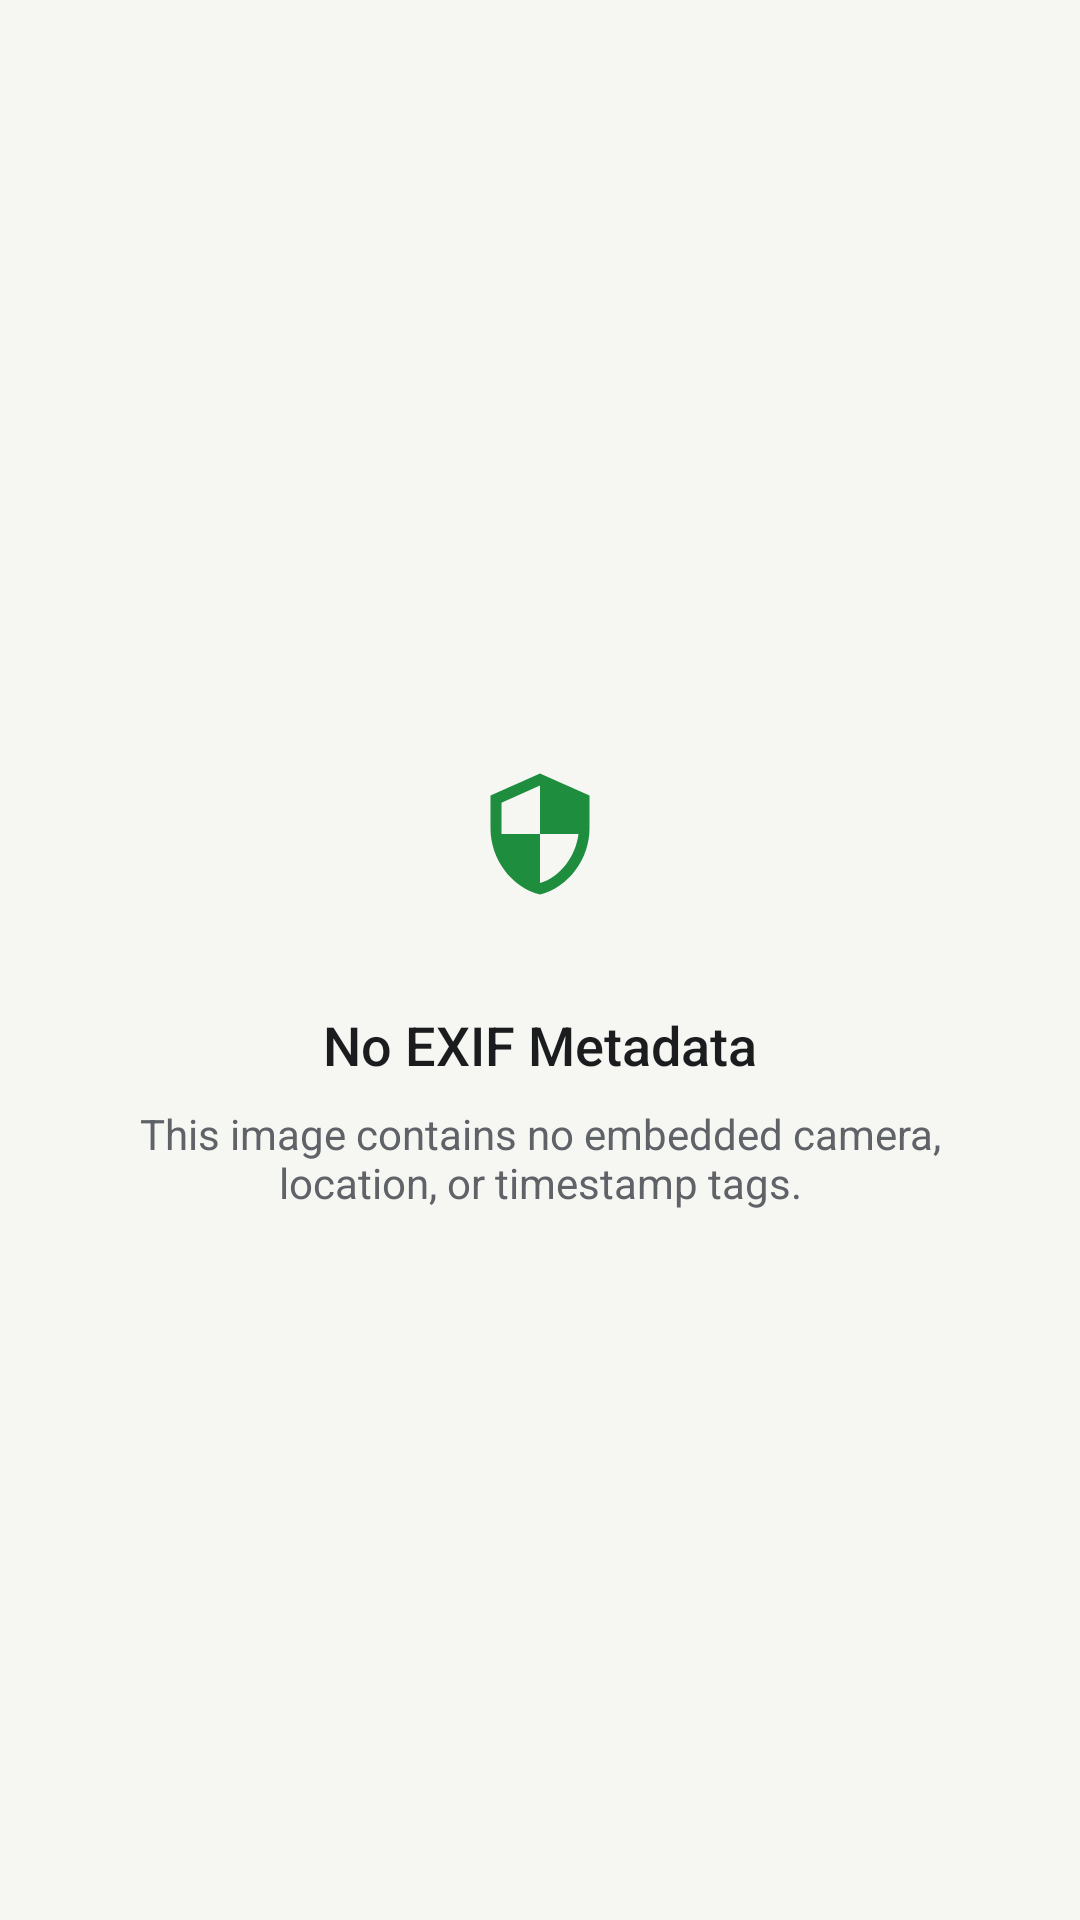

Icons on this 1080px×1920px Android screen, each with its box as (x1, y1, x2, y2):
shield: (490, 773, 590, 895)
